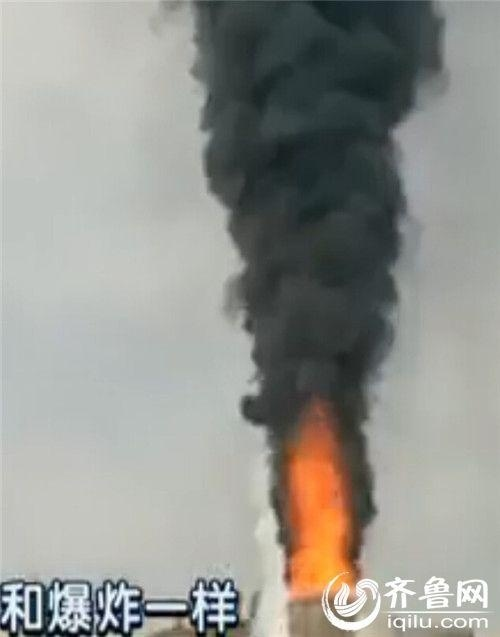fire: (278, 400, 363, 604)
